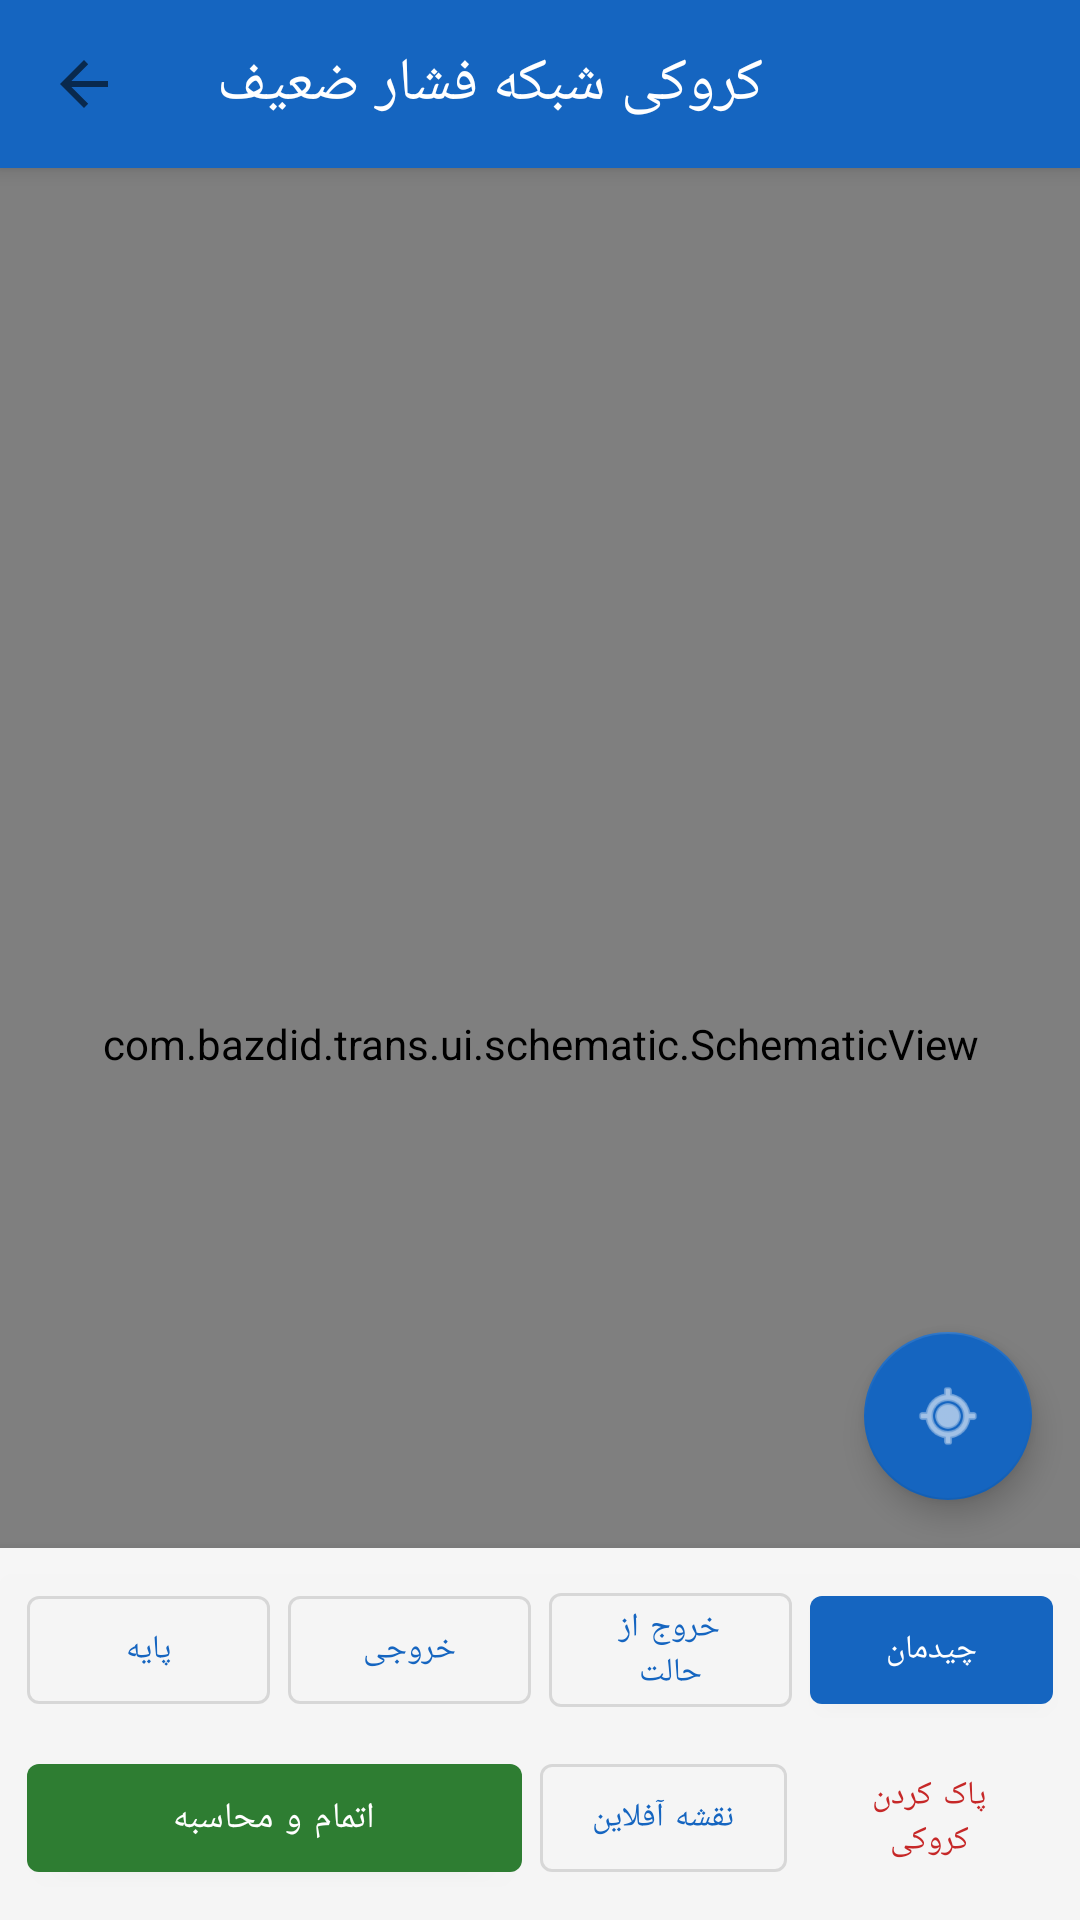

Named icons in this screenshot (1080*1920) and their bounding boxes, (x1, y1, x2, y2):
موقعیت من: (864, 1332, 1032, 1500)
